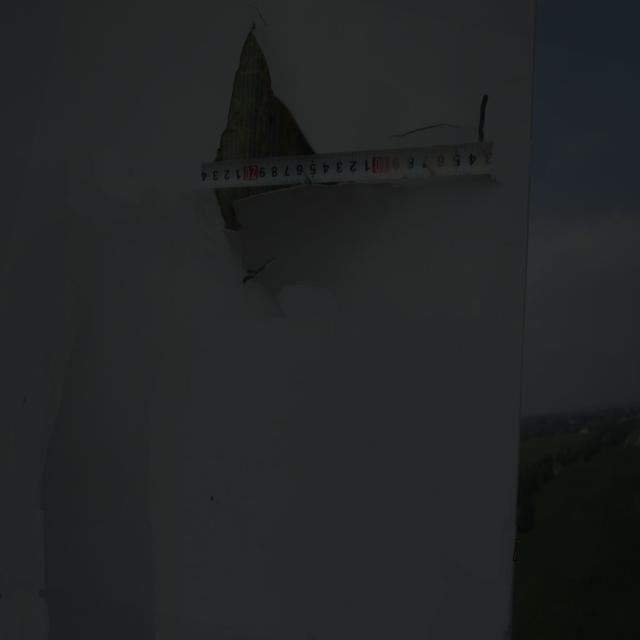crack: (193, 14, 491, 291)
